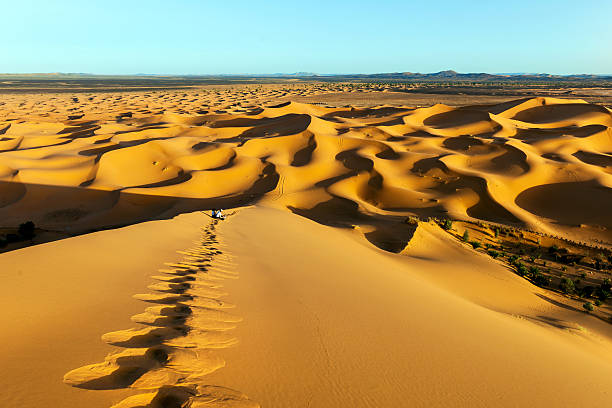animal_footprint: (64, 220, 258, 407)
